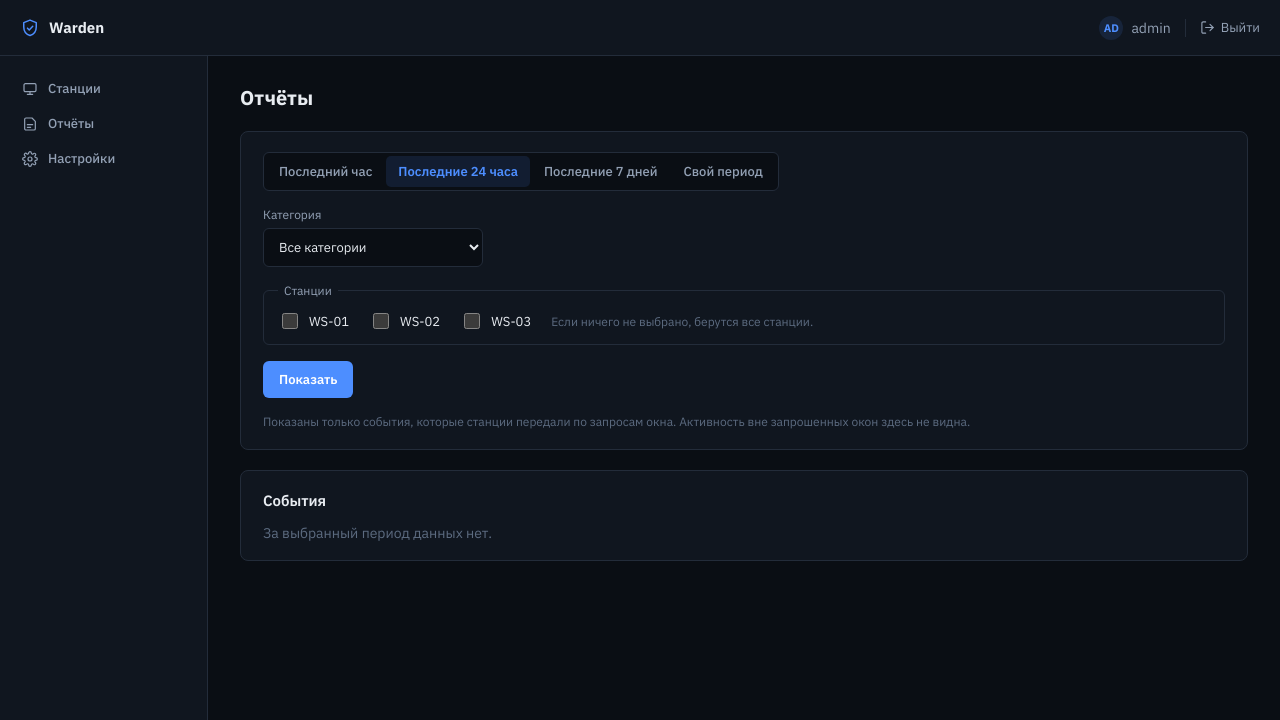
Test: ReportsPage › refuses a custom range whose end is not after its start, without a request
Click the button "Свой период": click(723, 172) [672,156,775,187]
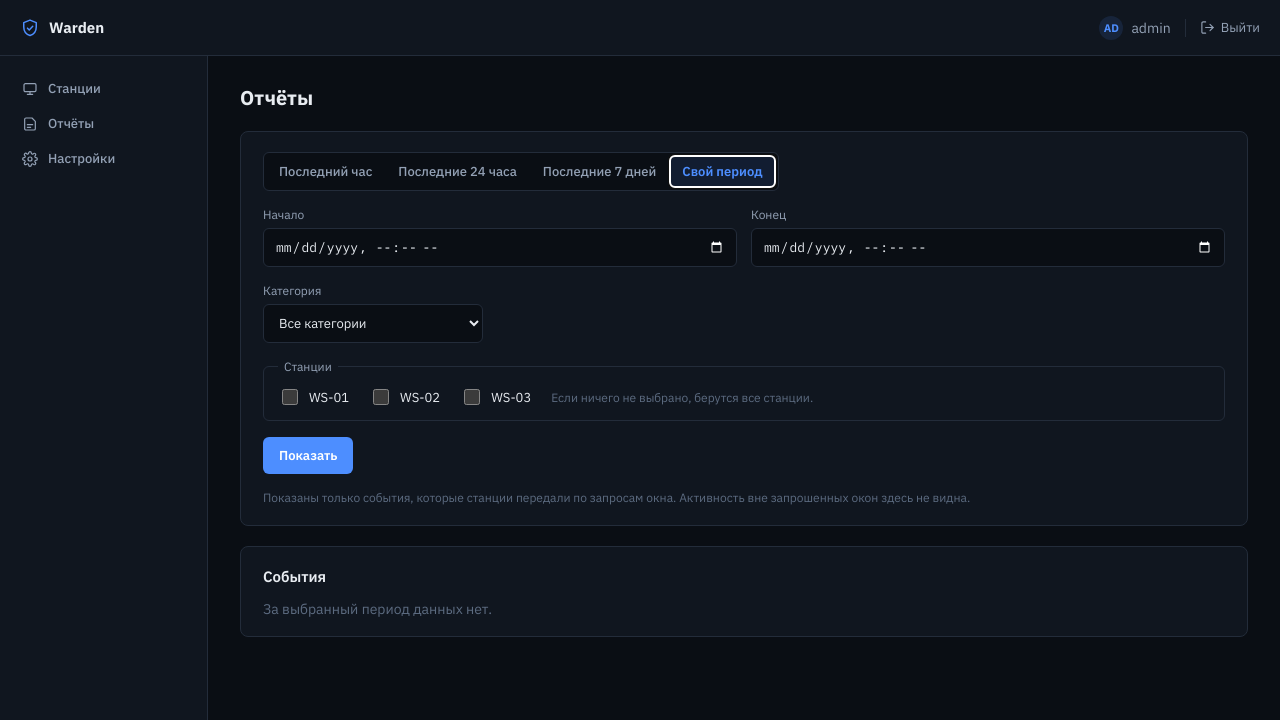
In the field labelled "Начало": (500, 248) [263,228,737,267], type "2026-09-02T12:00"
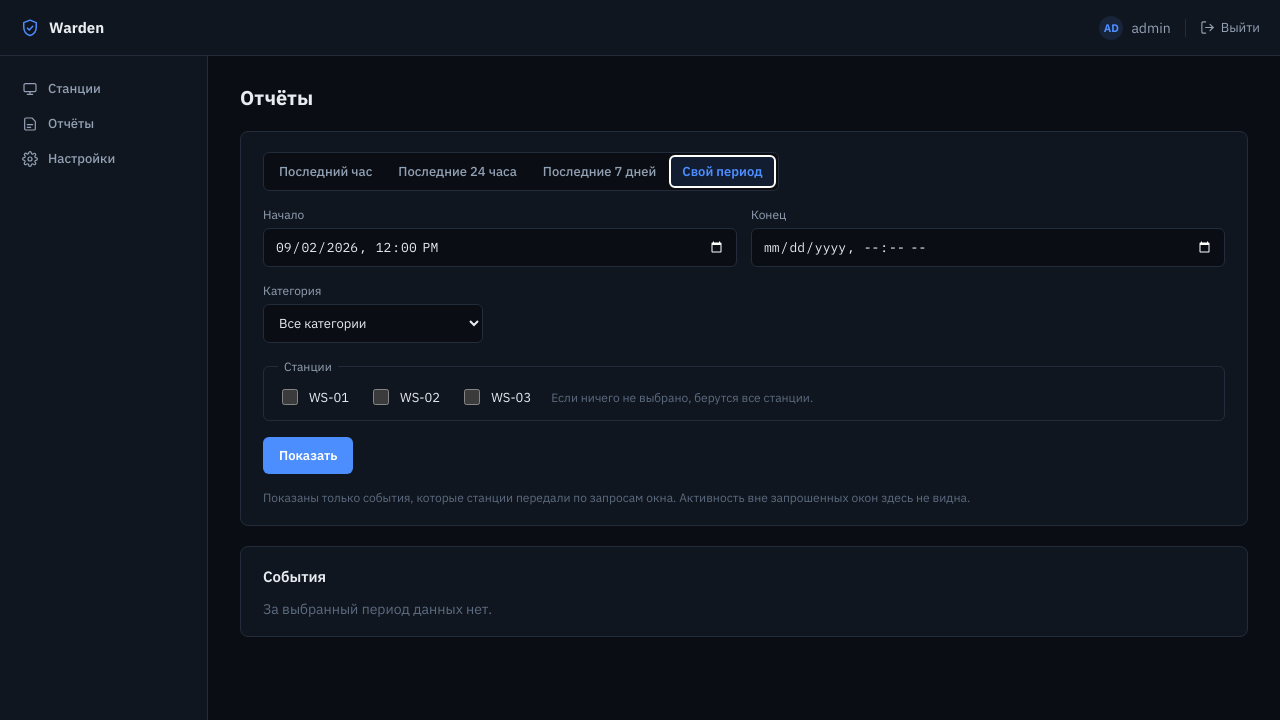
In the field labelled "Конец": (988, 248) [751,228,1225,267], type "2026-09-01T12:00"
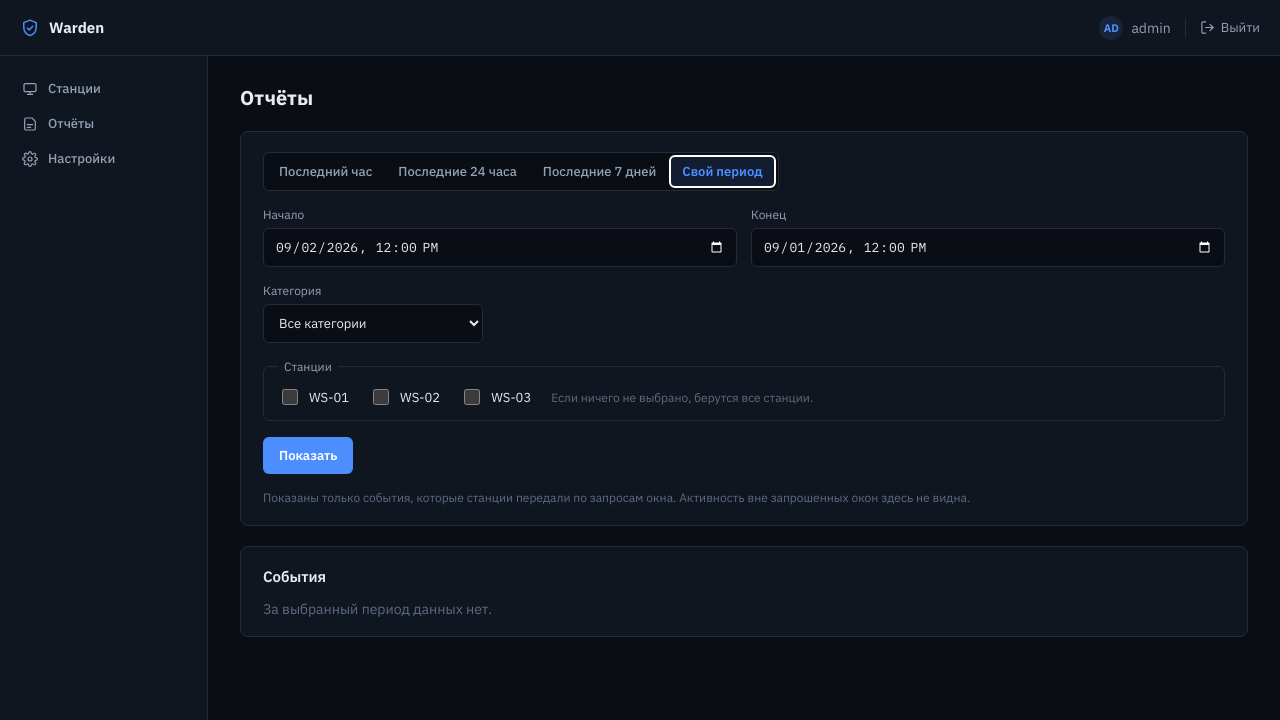
Click the button "Показать": click(308, 456) [263,437,353,474]
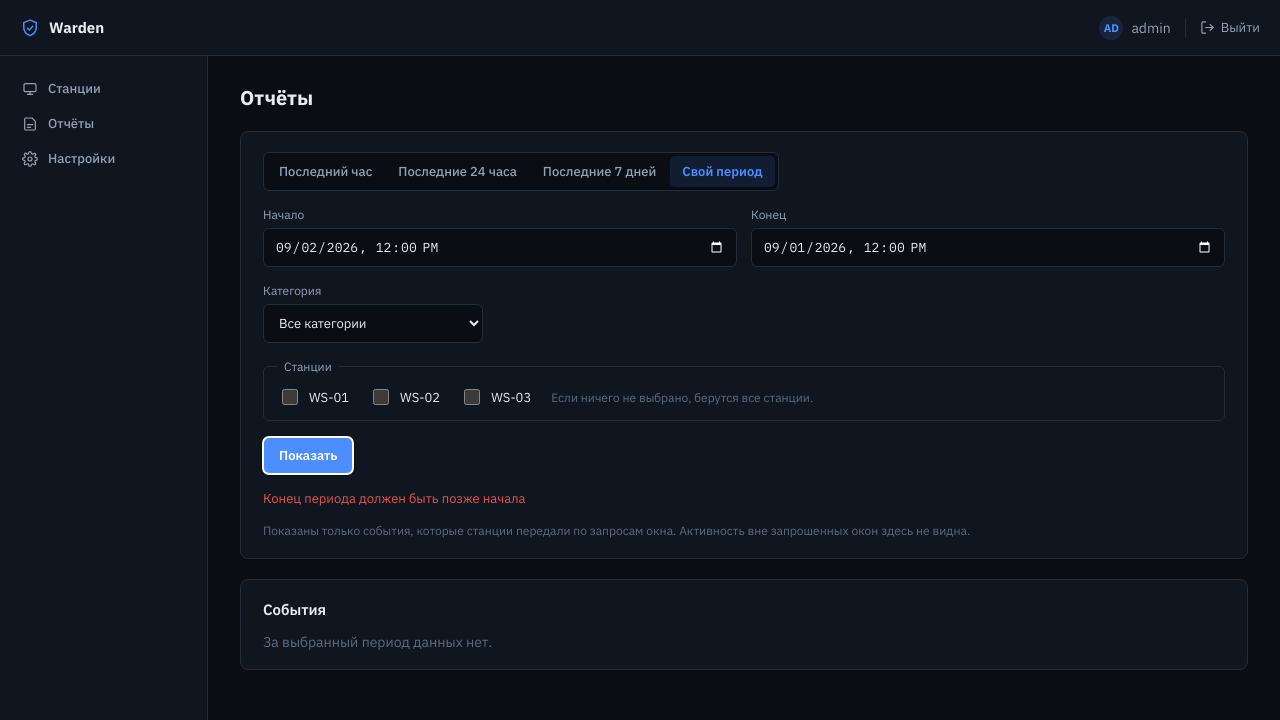
expect the text "Конец периода должен быть позже начала" is shown: met, box [263,490,526,507]
